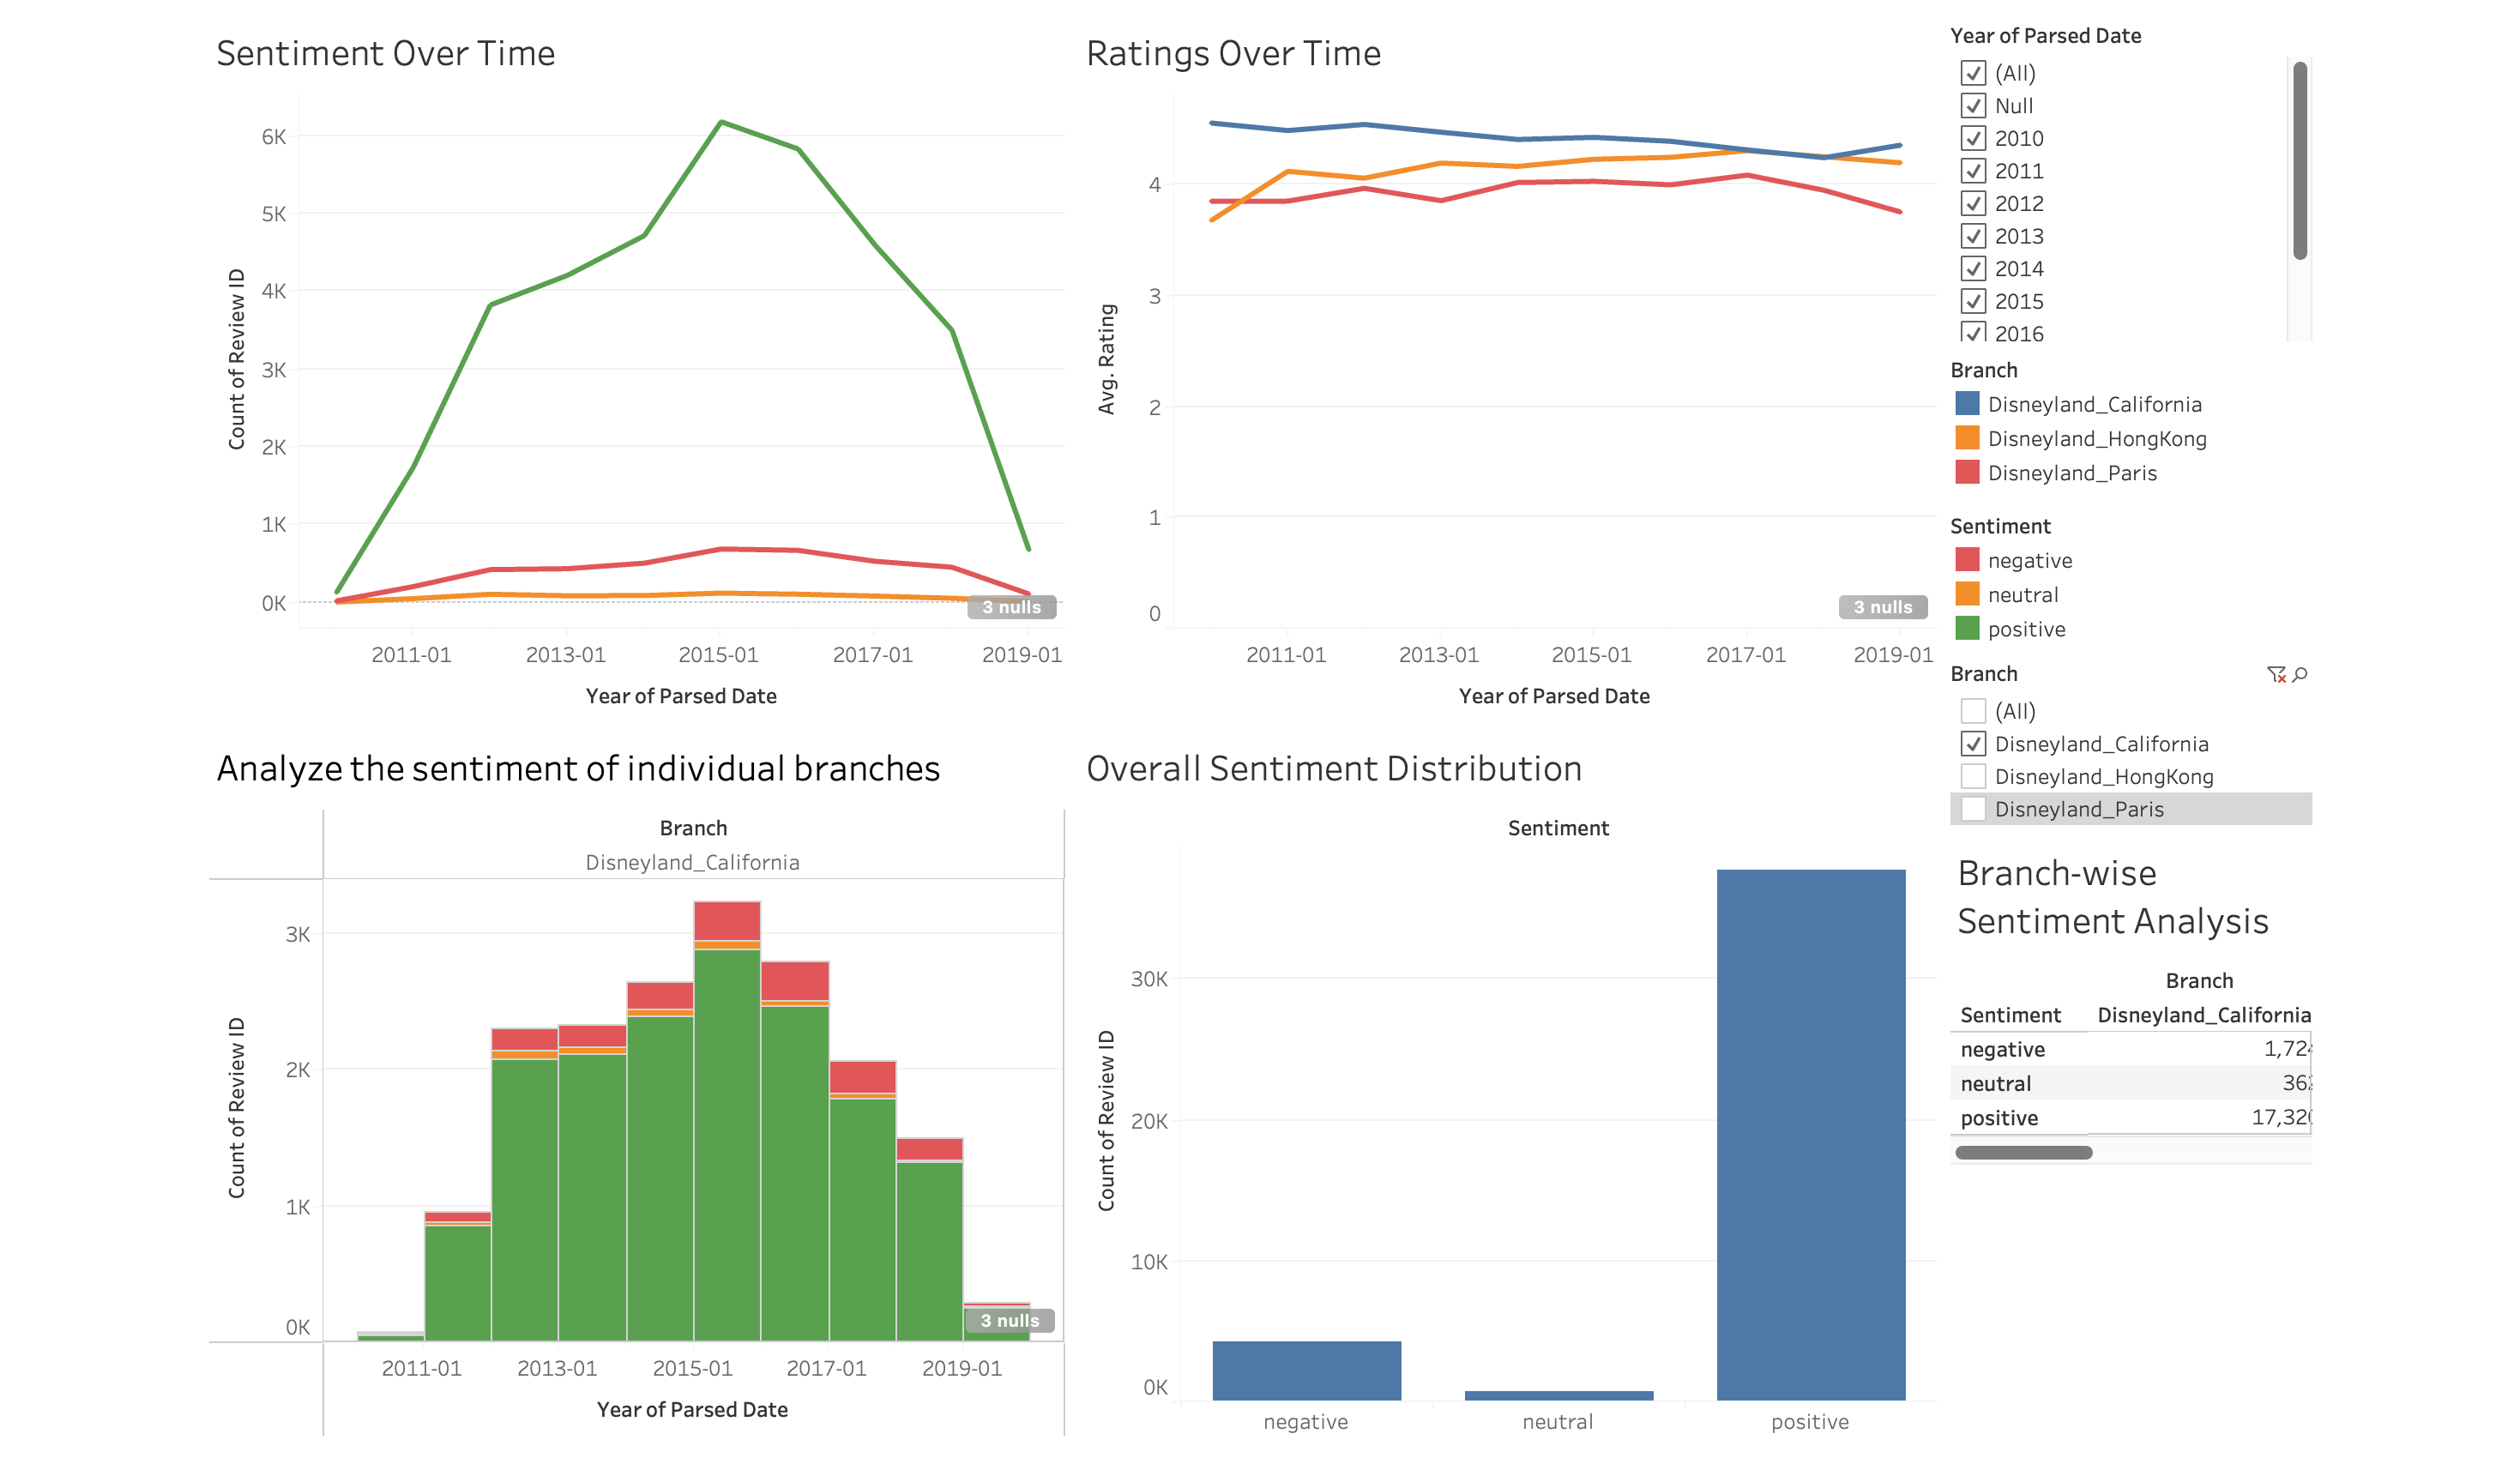

The dashboard page shown, as its layout file describes it:
{"tool":"tableau","page":{"name":"Dashboard 1","canvas":[1000,1000],"units":"permille","ordinal":0},"visuals":[{"type":"worksheet","title":"analyze the sentiment of individual branches","mark":"Line","rows":["Sentiment","Review_ID"],"cols":["Calculation_2053641455317807109"],"box":[6.4,11.6,757.6,320.8]},{"type":"legend","title":"Sentiment Over Time","param":"[federated.1kisggx0dt6lzy14ld8fi0nmiw0m].[none:Sentiment:nk]","box":[764,11.6,229.6,98.7]},{"type":"filter","title":"analyze the sentiment of individual branches","param":"[federated.1kisggx0dt6lzy14ld8fi0nmiw0m].[none:Branch:nk]","box":[764,110.3,229.6,127.7]},{"type":"filter","title":"Ratings Over Time","param":"[federated.1kisggx0dt6lzy14ld8fi0nmiw0m].[yr:Calculation_2053641455317807109:ok]","box":[764,238,229.6,159.7]},{"type":"worksheet","title":"Ratings Over Time","mark":"Line","rows":["Rating"],"cols":["Calculation_2053641455317807109"],"box":[6.4,332.4,757.6,229.3]},{"type":"worksheet","title":"Sentiment Over Time","mark":"Bar","rows":["Sentiment"],"cols":["Calculation_2053641455317807109"],"box":[764,397.7,229.6,590.7]},{"type":"worksheet","title":"Branch-wise Sentiment Analysis","mark":"Automatic","rows":["Sentiment"],"cols":["Branch"],"box":[6.4,561.7,757.6,187.2]},{"type":"worksheet","title":"Overall Sentiment Distribution","mark":"Automatic","rows":["Review_ID"],"cols":["Sentiment"],"box":[6.4,748.9,757.6,239.5]}]}

Visuals, with their boxes on the dashboard's canvas, which has no fixed pixel size, in thousandths of its width and height (x1, y1, x2, y2). These are canvas units, not pixel positions in the 2520x1458 screenshot, which may show the page scaled, cropped or inside an application window:
"analyze the sentiment of individual branches" worksheet (Line marks): {"left": 6, "top": 12, "right": 764, "bottom": 332}
"Sentiment Over Time" legend: {"left": 764, "top": 12, "right": 994, "bottom": 110}
"analyze the sentiment of individual branches" filter: {"left": 764, "top": 110, "right": 994, "bottom": 238}
"Ratings Over Time" filter: {"left": 764, "top": 238, "right": 994, "bottom": 398}
"Ratings Over Time" worksheet (Line marks): {"left": 6, "top": 332, "right": 764, "bottom": 562}
"Sentiment Over Time" worksheet (Bar marks): {"left": 764, "top": 398, "right": 994, "bottom": 988}
"Branch-wise Sentiment Analysis" worksheet: {"left": 6, "top": 562, "right": 764, "bottom": 749}
"Overall Sentiment Distribution" worksheet: {"left": 6, "top": 749, "right": 764, "bottom": 988}
